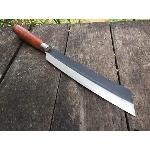Golok: (11, 23, 140, 120)
